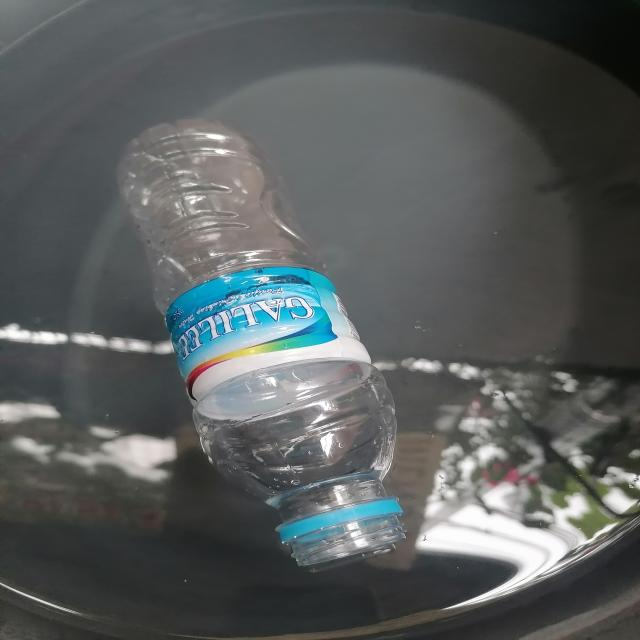Plastic Bottle: (88, 101, 450, 581)
